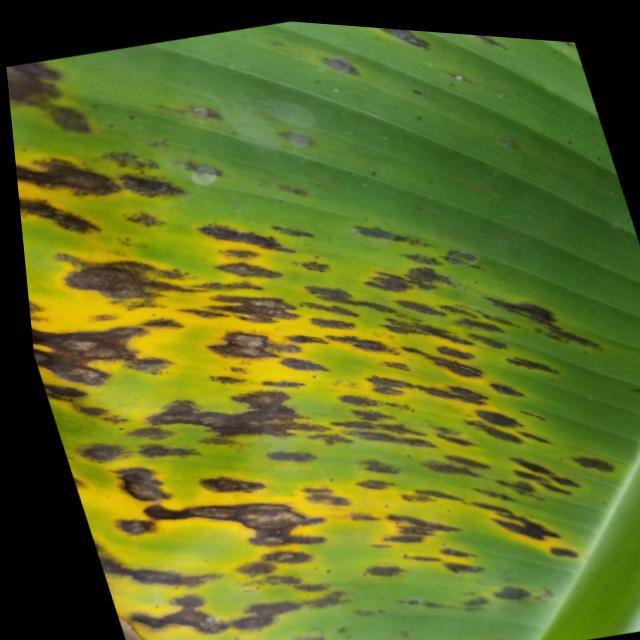Early_rust: (5, 43, 623, 622)
